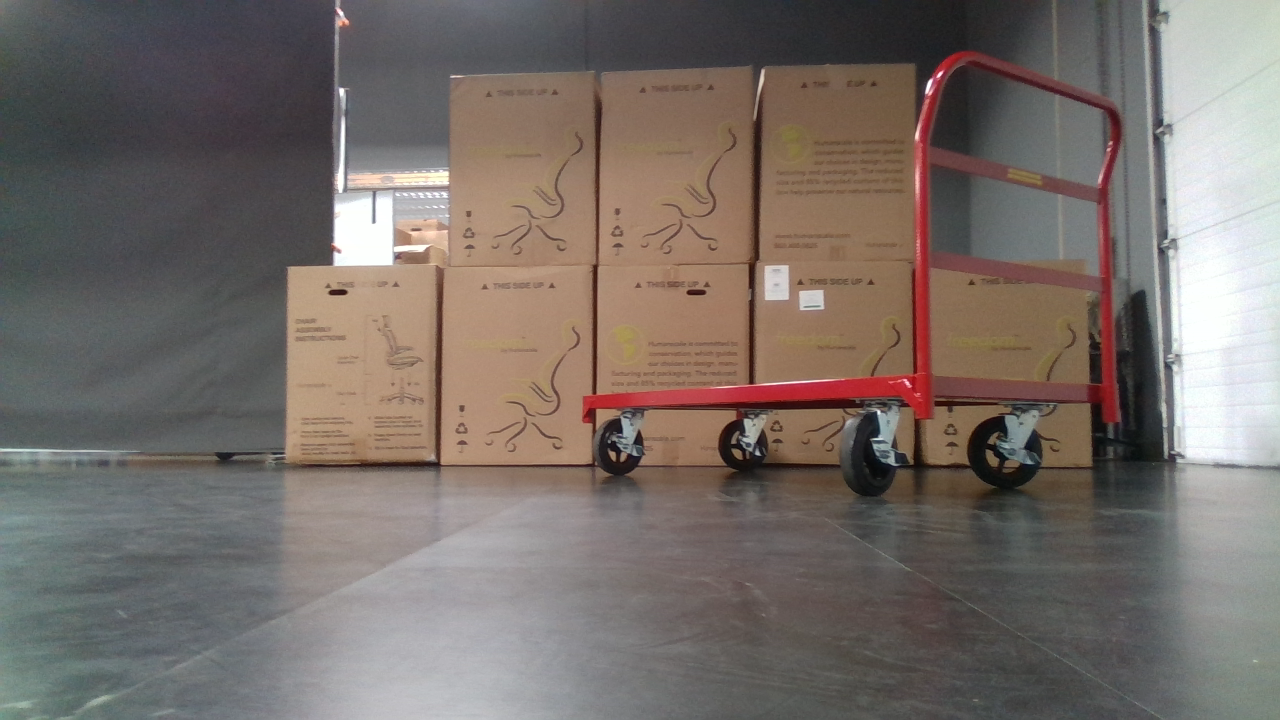Dolly: (569, 40, 1130, 508)
Wheel: (836, 405, 915, 500), (966, 403, 1049, 490), (589, 405, 650, 476), (717, 411, 774, 472)
